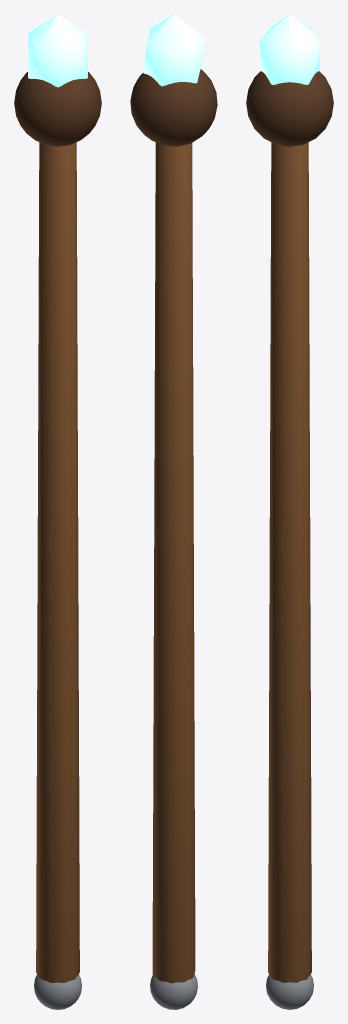
Rendered from staff.glb.
3 views of the same model, side by side, from view 1: azimuth 90°, elevation 25°; view 2: azimuth 210°, elevation 25°; view 3: azimuth 270°, elevation 25° (orthographic).
Visible parts, largest first — view 1: wpn_staff; view 2: wpn_staff; view 3: wpn_staff.
Boxes of the visible parts, box(x1,y1,x2,y2) form: wpn_staff: box(14, 14, 101, 1009); wpn_staff: box(130, 14, 217, 1009); wpn_staff: box(246, 14, 333, 1009).
Bounding box in the file's own units: 0.2 × 2.5 × 0.2.
